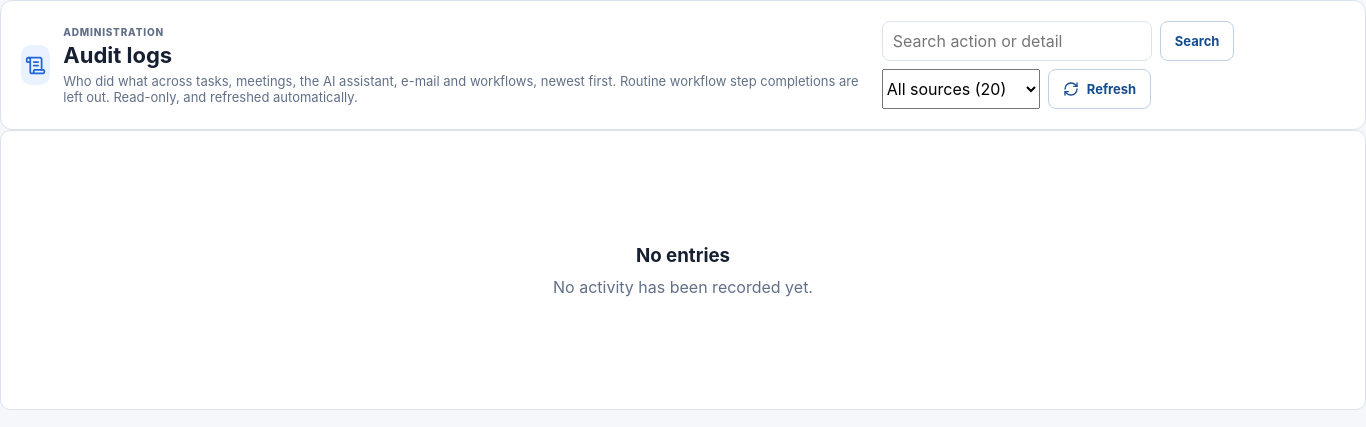
Test: AuditLogsPage › shows an empty state that tells a filter apart from no activity
The width and height of the screenshot is (1366, 427).
Expected: the text "No activity has been recorded yet." is shown, [553, 276, 813, 296]
Type "zzz" into the search field named "Search the audit log" at (1017, 41), box [882, 21, 1152, 61]
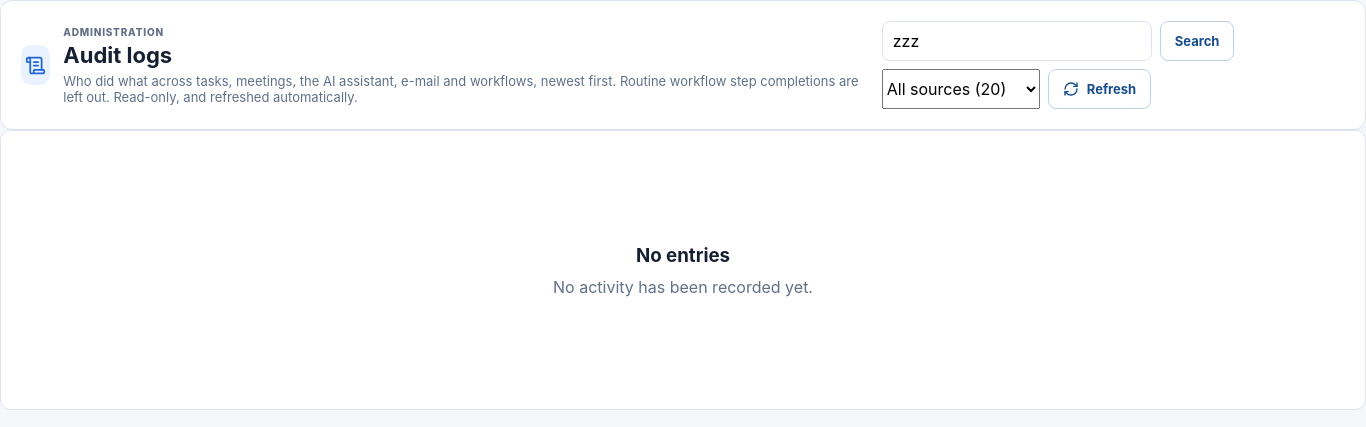
Click the button "Search" at (1197, 41), box [1160, 21, 1234, 61]
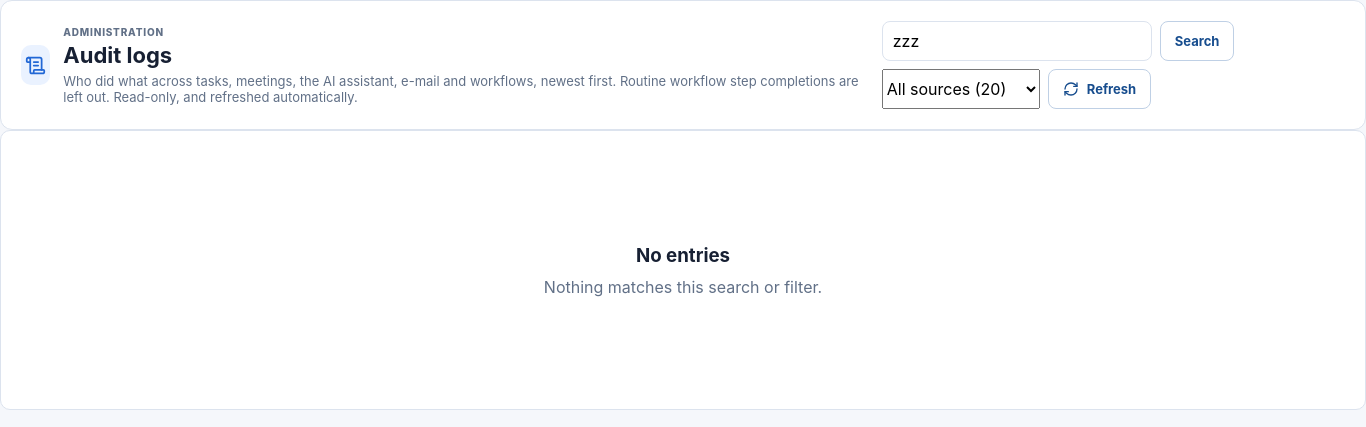
Expected: the text "Nothing matches this search or filter." is shown, [544, 276, 822, 296]
